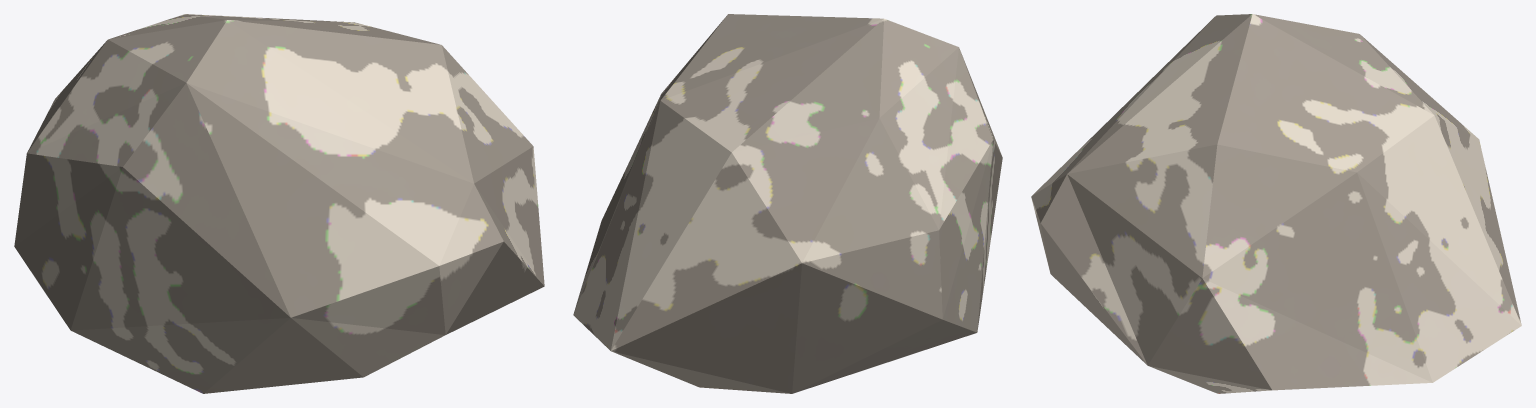
Rendered from RockGrayG.fbx.
The picture shows the model from 3 angles, left to right: view 1: azimuth 30°, elevation 25°; view 2: azimuth 150°, elevation 25°; view 3: azimuth 270°, elevation 25°; orthographic projection. The views are drawn at different scales.
Parts seen in each view (by area): view 1: RockGrayG; view 2: RockGrayG; view 3: RockGrayG.
Part boxes in pixels (box(x1,y1,x2,y2)): RockGrayG: box(14, 14, 544, 393); RockGrayG: box(573, 14, 1002, 393); RockGrayG: box(1031, 14, 1521, 393).
Size of the model in its own units: 2.68 by 2.18 by 3.
Materials: 1 (1 with a texture image).
